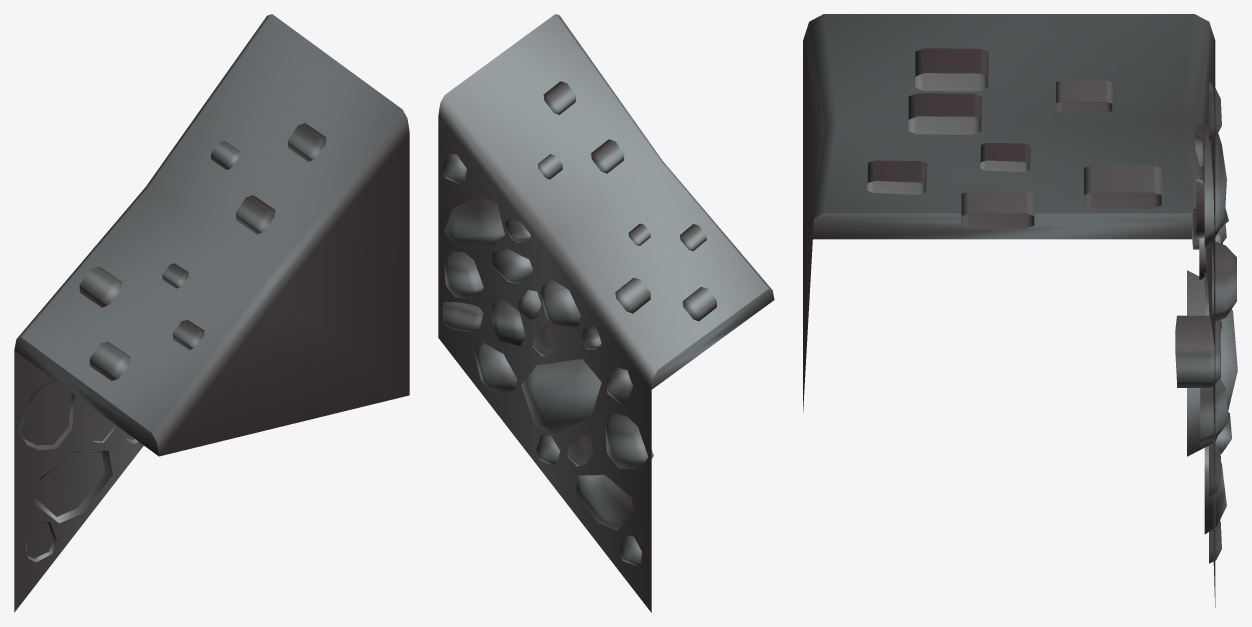
The model's file is SM_Env_Slide_02.fbx.
3 renders of one model, left to right at view 1: azimuth 30°, elevation 25°; view 2: azimuth 150°, elevation 25°; view 3: azimuth 270°, elevation 25°, orthographic. The views are drawn at different scales.
Visible parts, largest first — view 1: SM_Env_Slide_02; view 2: SM_Env_Slide_02; view 3: SM_Env_Slide_02.
Boxes of the visible parts, box(x1,y1,x2,y2) form: SM_Env_Slide_02: box(14, 14, 409, 612); SM_Env_Slide_02: box(438, 14, 774, 612); SM_Env_Slide_02: box(803, 14, 1237, 607).
Size of the model in its own units: 300 by 621 by 316.
